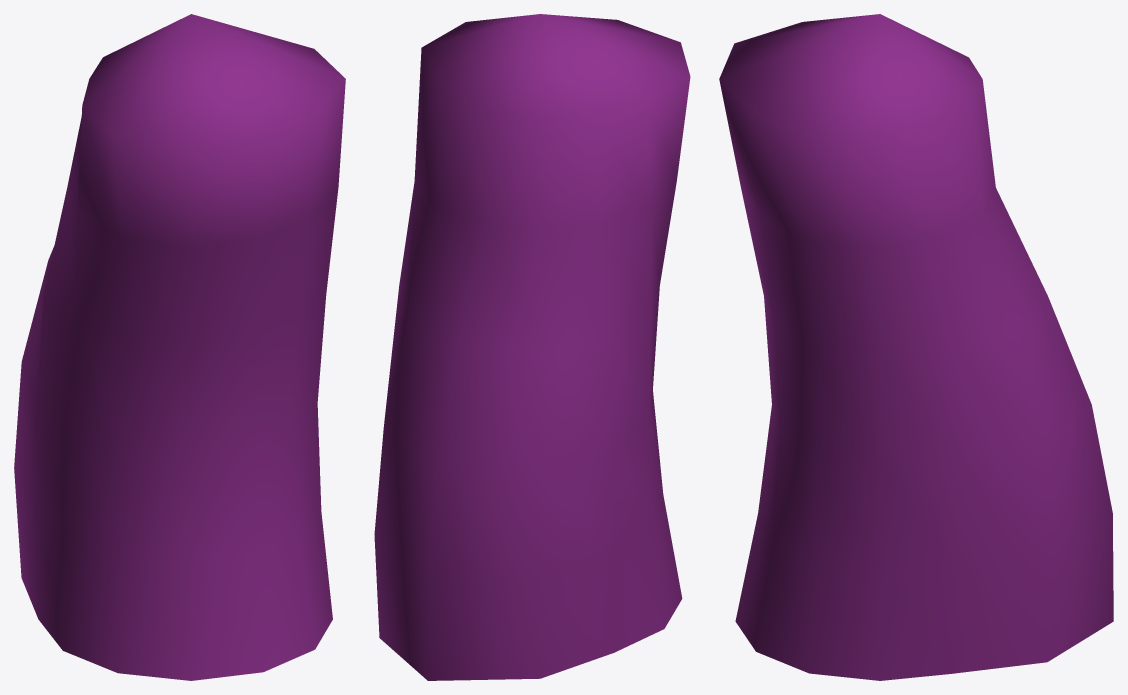
Rendered from nebula_armor_boot.R.glb.
3 renders of one model, left to right at view 1: azimuth 30°, elevation 25°; view 2: azimuth 150°, elevation 25°; view 3: azimuth 270°, elevation 25°, orthographic. The views are drawn at different scales.
Visible parts, largest first — view 1: nebula_armor_boot.R; view 2: nebula_armor_boot.R; view 3: nebula_armor_boot.R.
Part boxes in pixels (box(x1,y1,x2,y2)): nebula_armor_boot.R: box(14, 14, 345, 680); nebula_armor_boot.R: box(374, 14, 690, 680); nebula_armor_boot.R: box(719, 14, 1113, 680).
Bounding box in the file's own units: 0.1257 × 0.288 × 0.1695.
